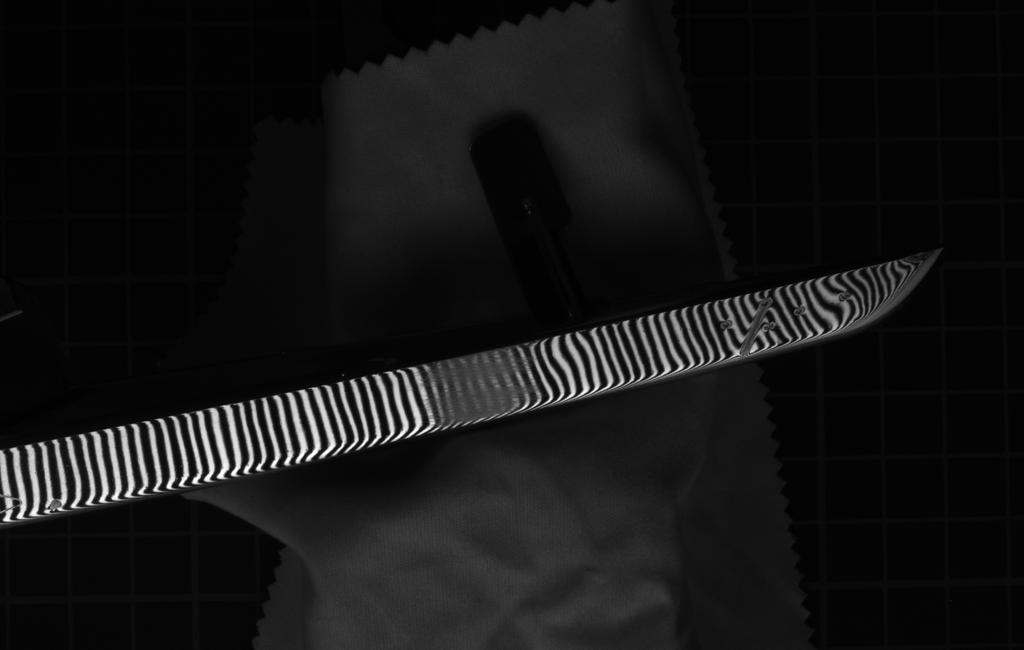Pierced: (714, 313, 736, 334), (833, 287, 854, 305), (759, 320, 783, 335), (787, 303, 809, 319)
Pitting: (415, 338, 554, 434)
Scratch: (734, 292, 774, 363)
